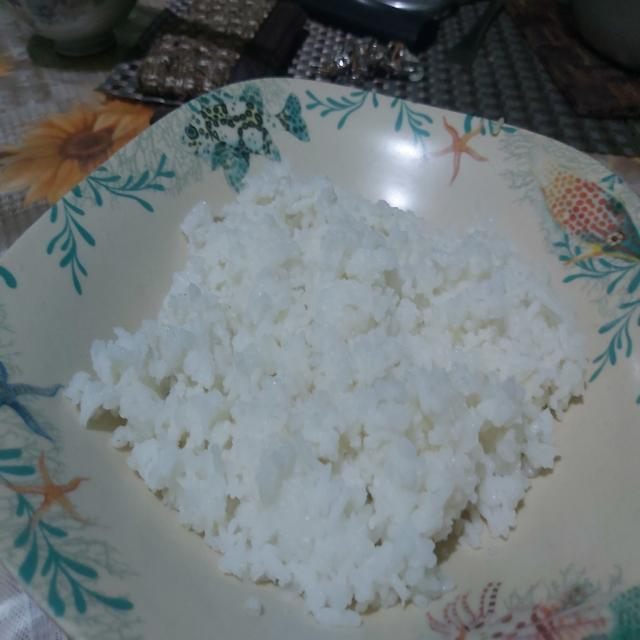Chicken -Chicken Inasal-: (126, 160, 574, 596)
